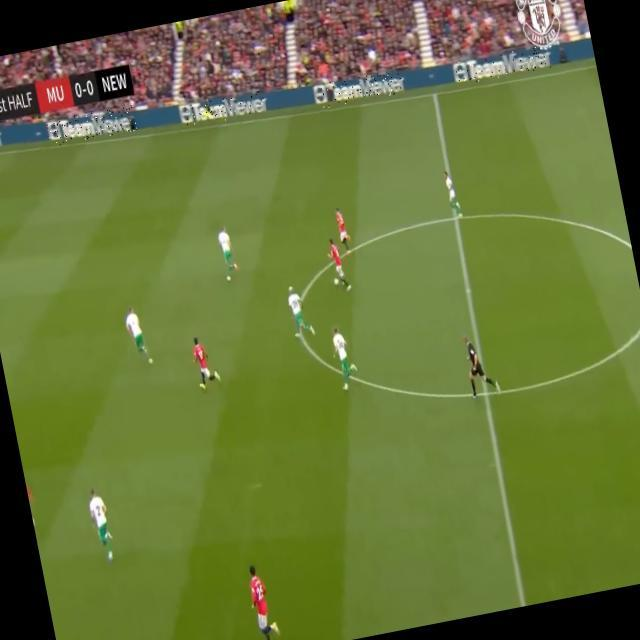TeamViewer: (454, 45, 554, 87), (46, 104, 138, 147), (313, 68, 407, 110), (179, 90, 269, 129)
